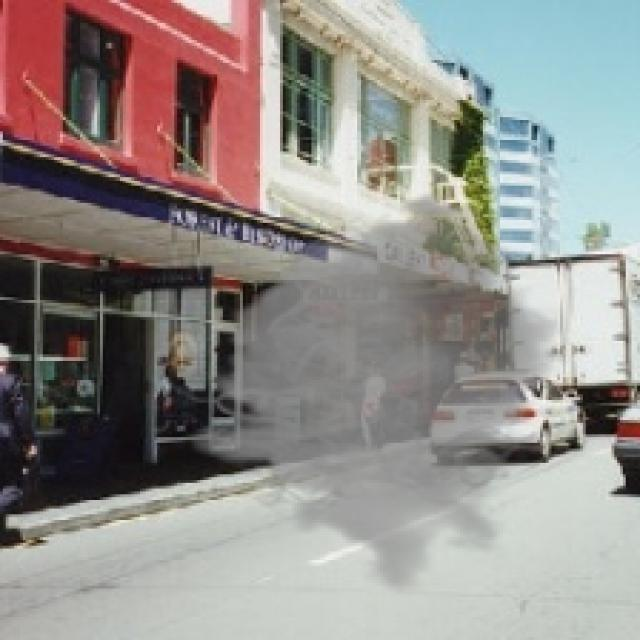smoke: (174, 192, 597, 594)
